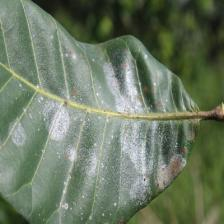red rust: (0, 0, 198, 223)
